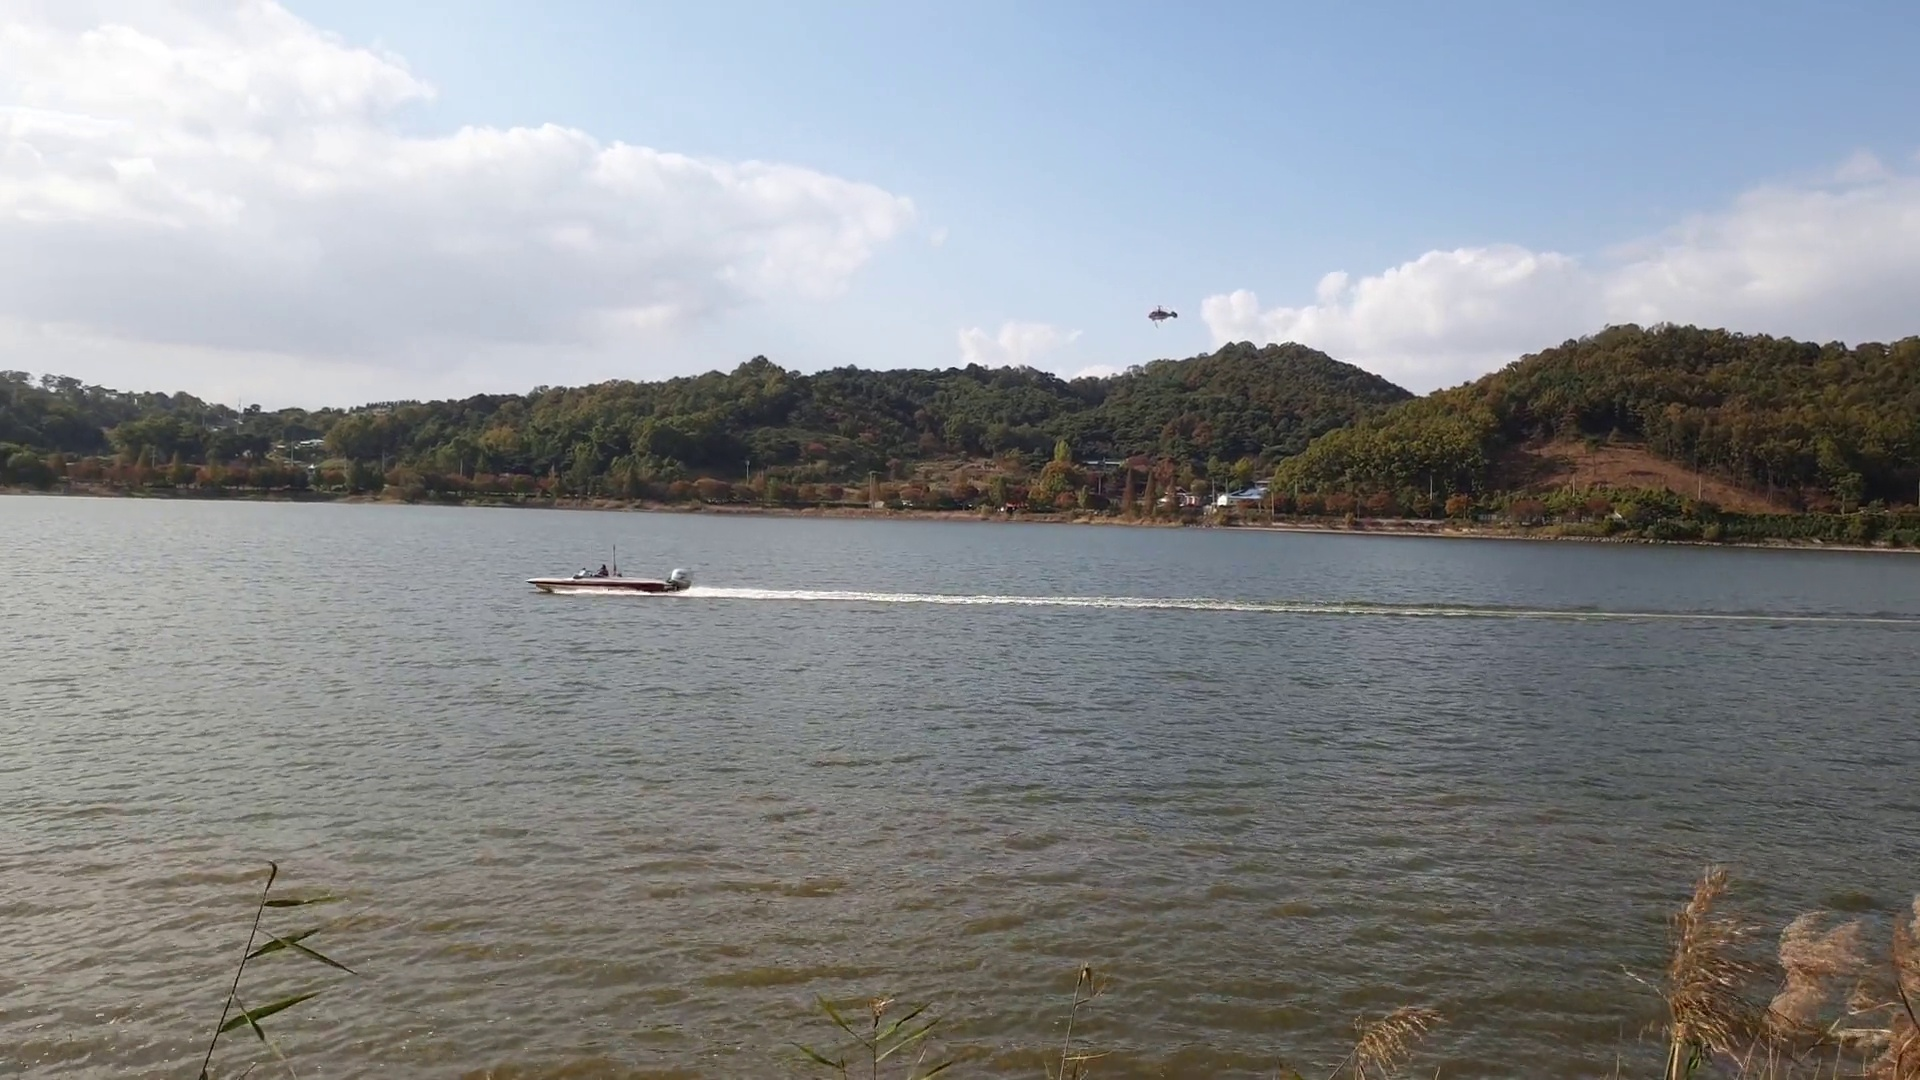heli: (1147, 305, 1178, 323)
